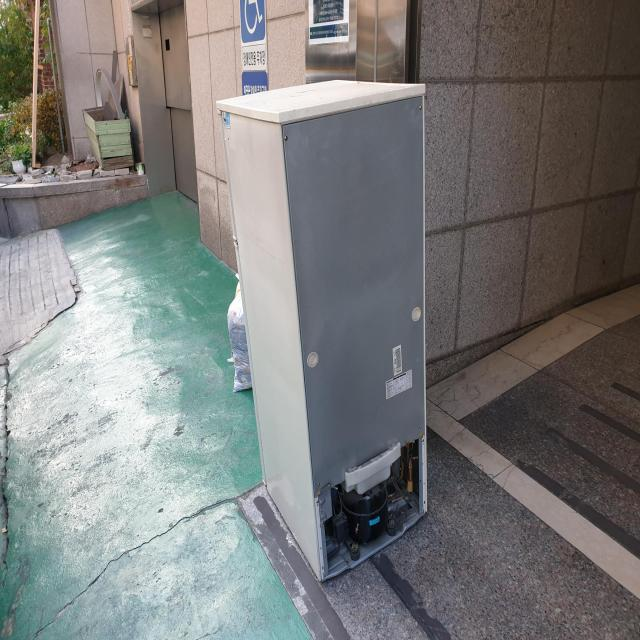refrigerator: (215, 79, 428, 584)
